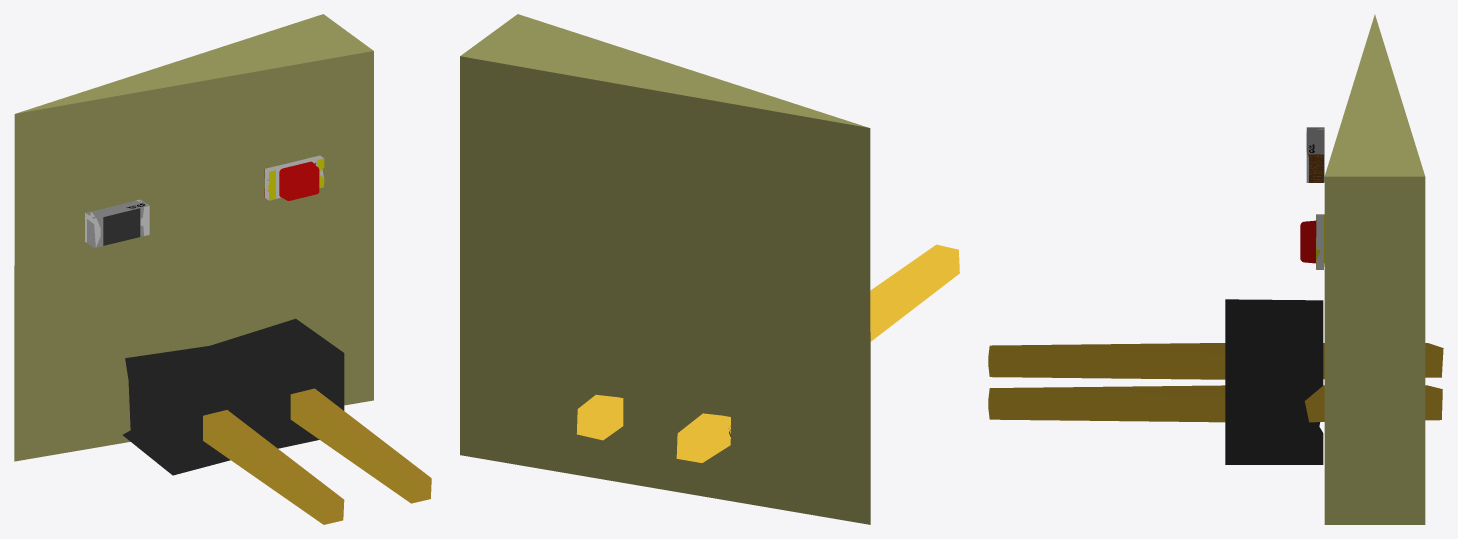
The model's file is OBJ_PCB_led_board.obj.
3 renders of one model, left to right at view 1: azimuth 30°, elevation 25°; view 2: azimuth 150°, elevation 25°; view 3: azimuth 270°, elevation 25°, orthographic. The views are drawn at different scales.
Bounding box in the file's own units: 38.23 × 38.17 × 45.17.
